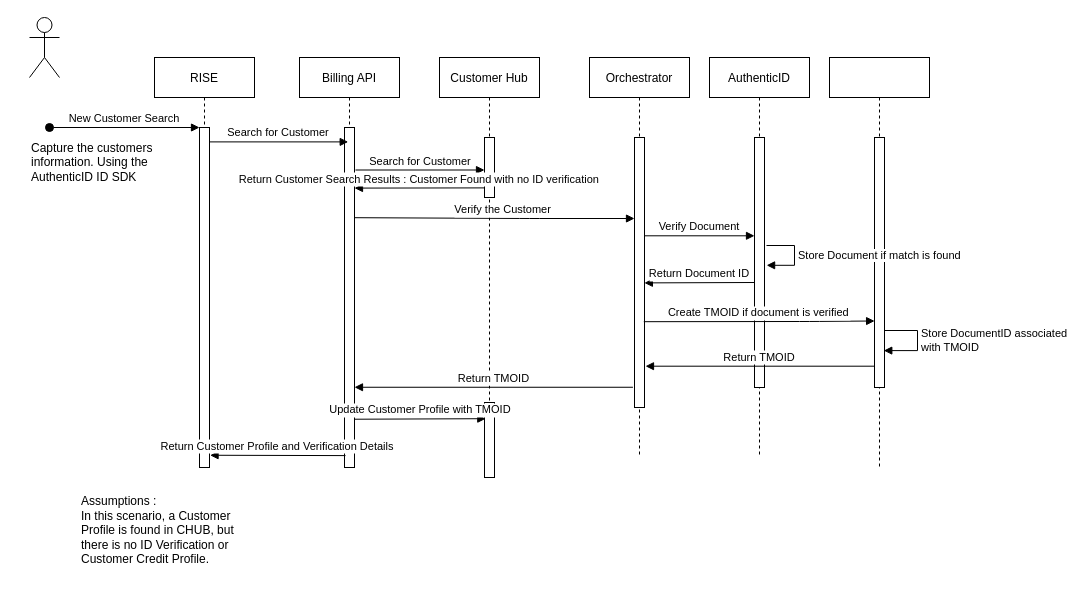
This 1085x605 diagram has some shape labels left out. The shapes that lost their labels are listed below. From the top down, each one's box as (x1, y1, x2, y2) in pixels, then its label:
(28, 16, 60, 78): Store Rep
(828, 56, 930, 468): IAM
